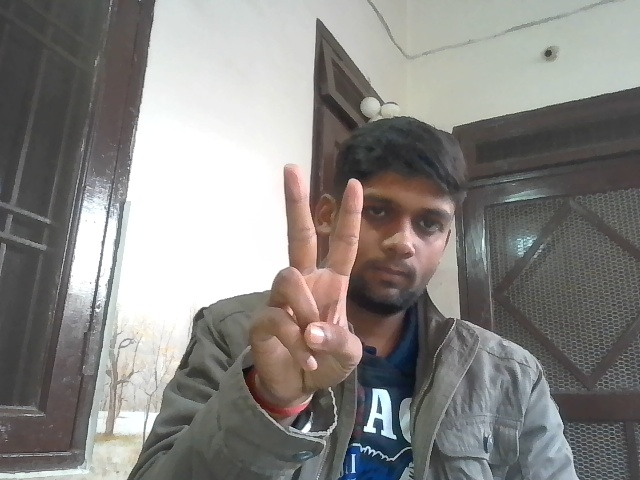Enjoy: (245, 157, 365, 400)
